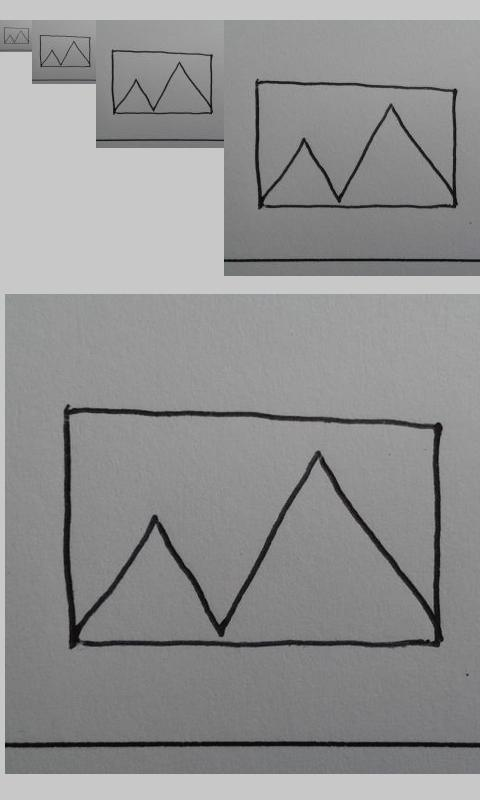image_view: (59, 402, 446, 656), (254, 78, 458, 209), (110, 48, 214, 116), (39, 34, 92, 68), (3, 26, 30, 45)
